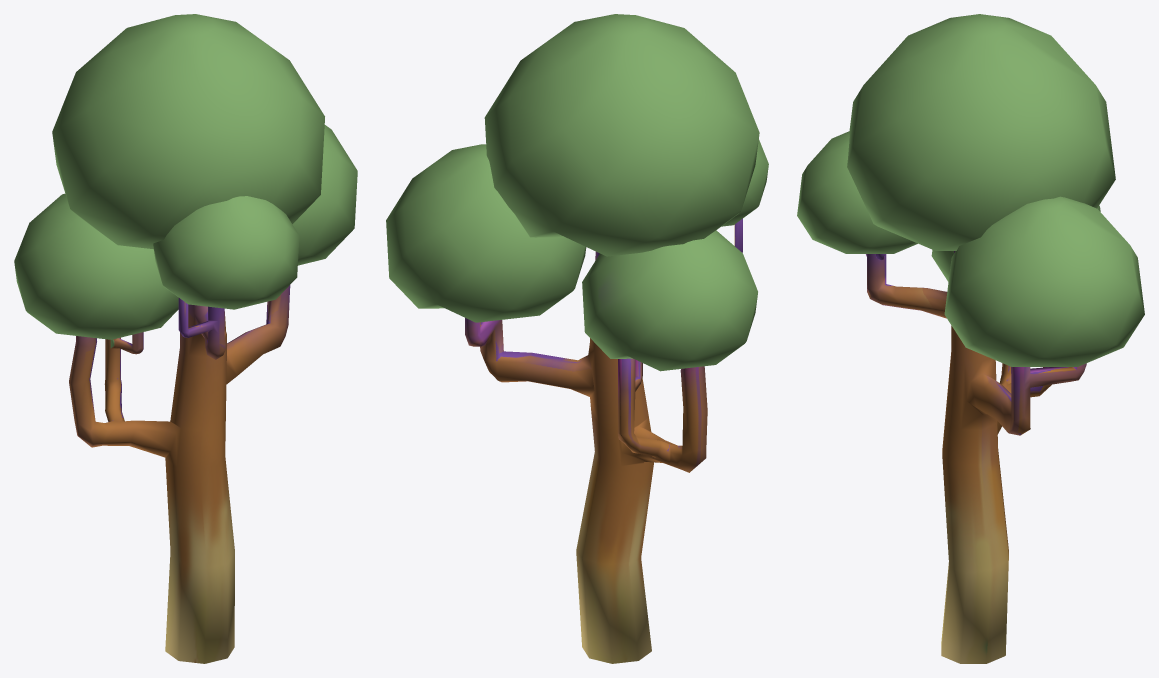
The model's file is _V1.tree01.Texturetesting1.fbx.
The picture shows the model from 3 angles, left to right: view 1: azimuth 30°, elevation 25°; view 2: azimuth 150°, elevation 25°; view 3: azimuth 270°, elevation 25°; orthographic projection.
Visible parts, largest first — view 1: Sphere; view 2: Sphere; view 3: Sphere.
Boxes of the visible parts, x1,y1,x2,y2 form: Sphere: [14, 14, 357, 663]; Sphere: [386, 14, 768, 663]; Sphere: [797, 14, 1144, 663].
Size of the model in its own units: 1180 by 2127 by 1077.
